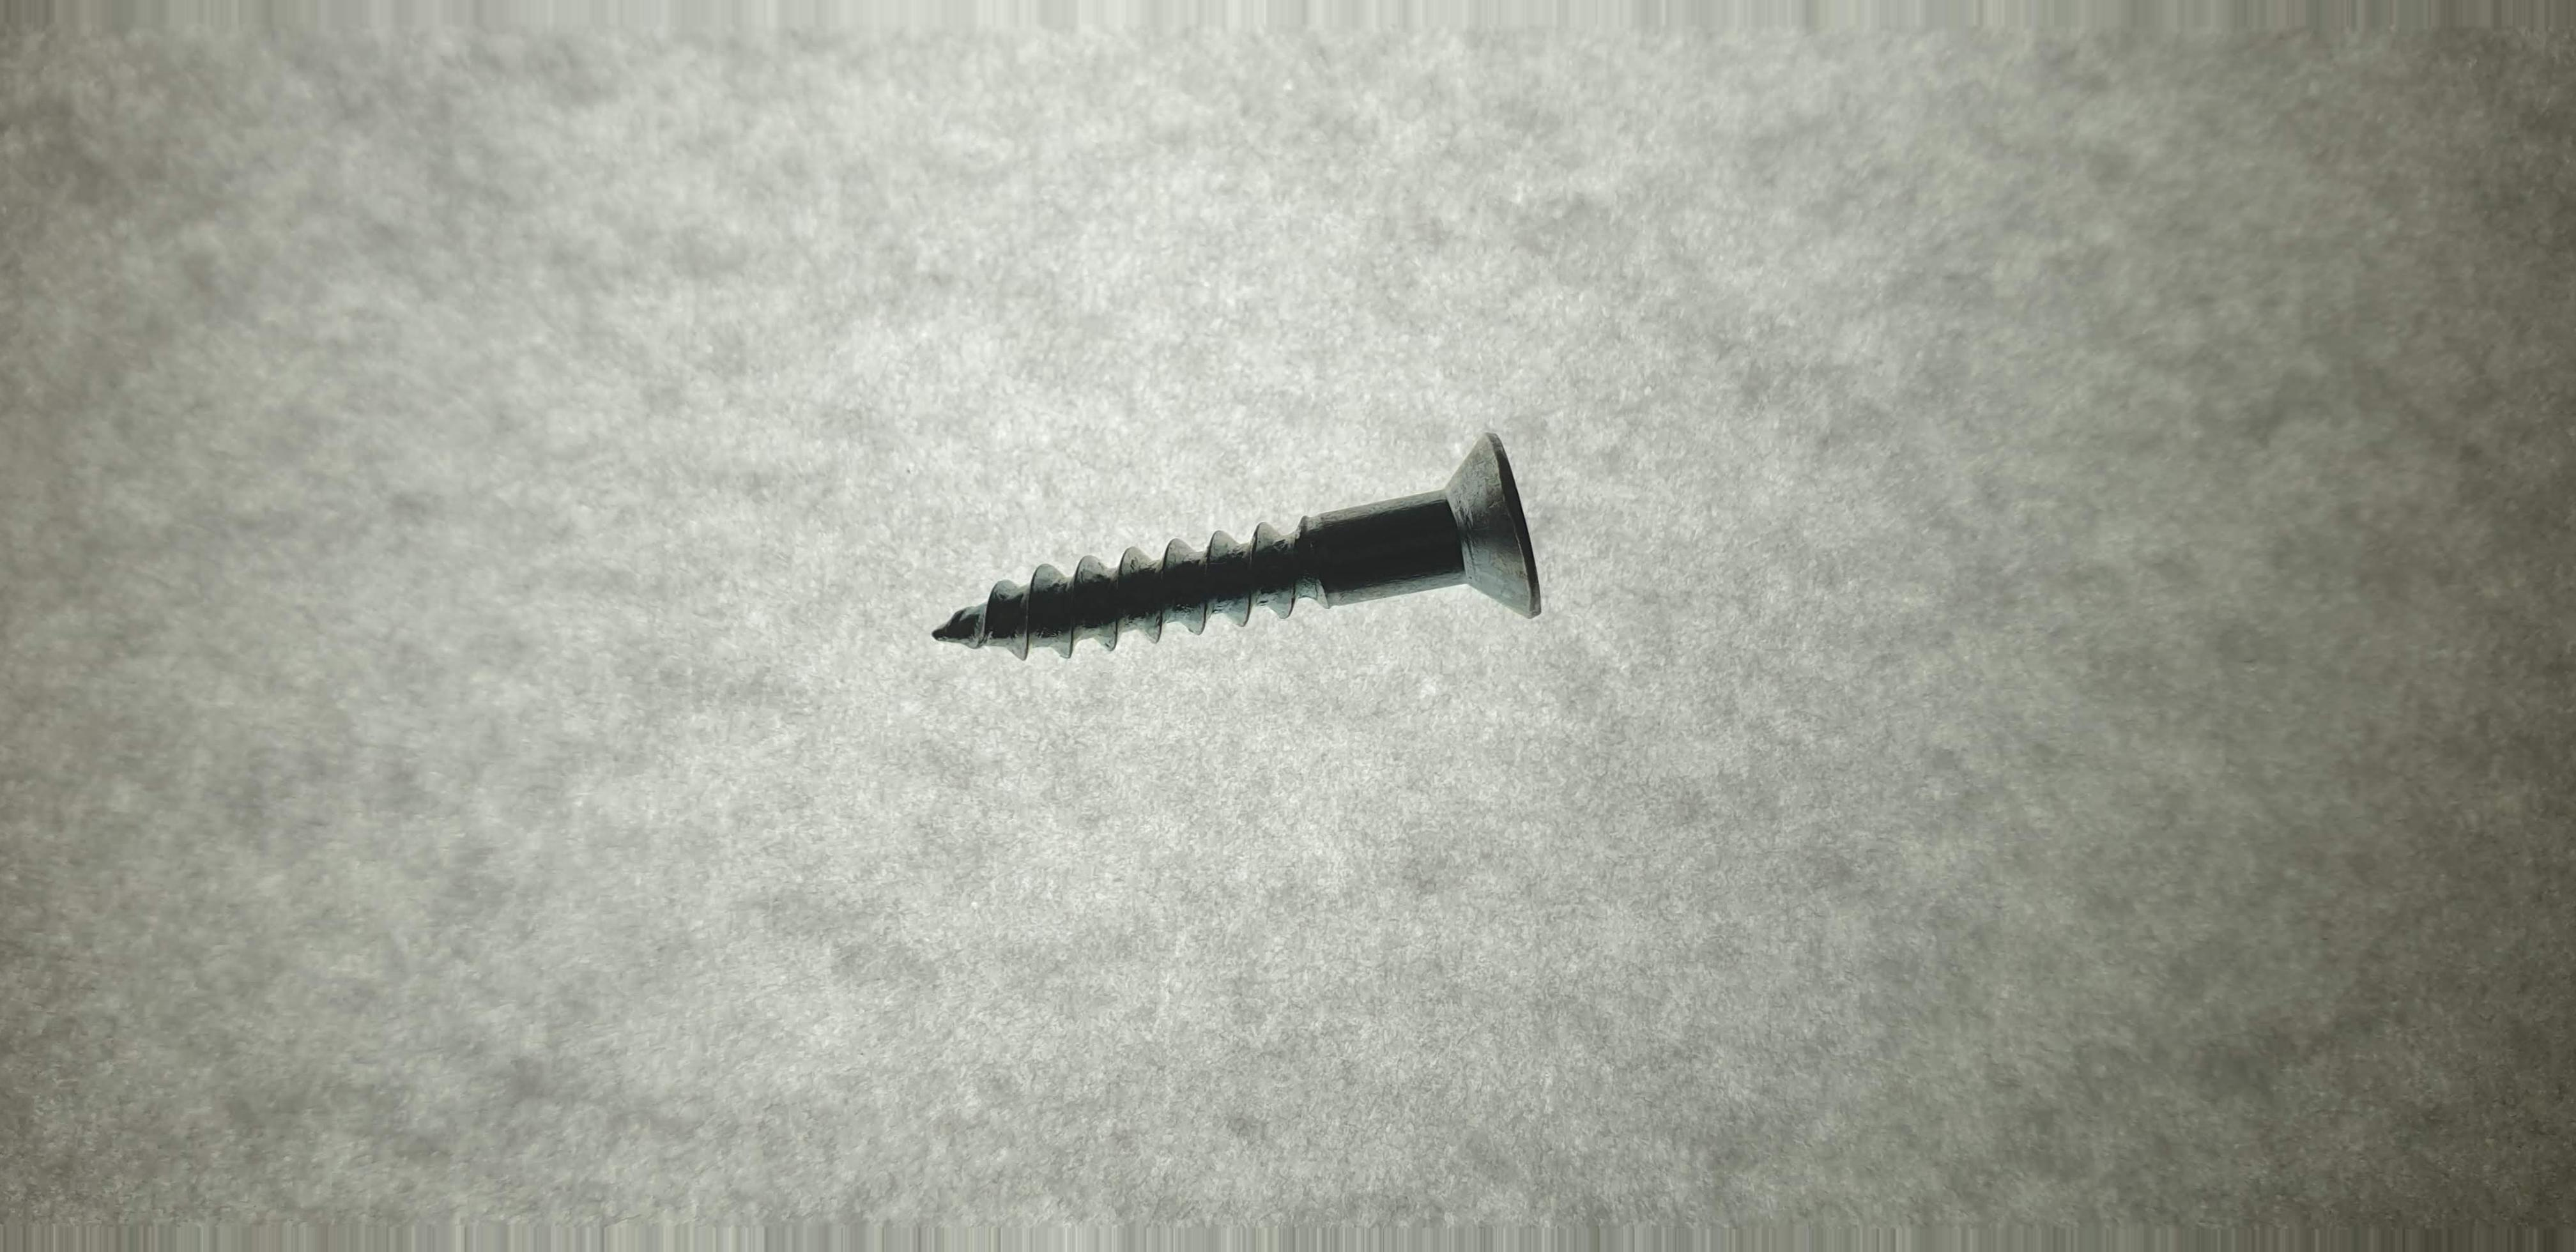S005: (867, 404, 1623, 736)
